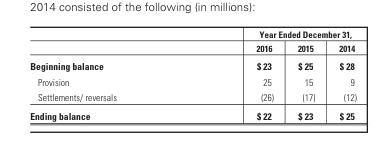table: (29, 28, 355, 121)
table column: (29, 28, 185, 121), (185, 28, 284, 121), (284, 28, 326, 121), (326, 28, 355, 121)
table column header: (29, 28, 355, 56)
table row: (29, 88, 355, 106), (29, 56, 355, 73), (29, 41, 355, 56), (29, 73, 355, 88), (29, 106, 355, 121), (29, 28, 355, 41)
table spanning cell: (185, 28, 355, 41)
